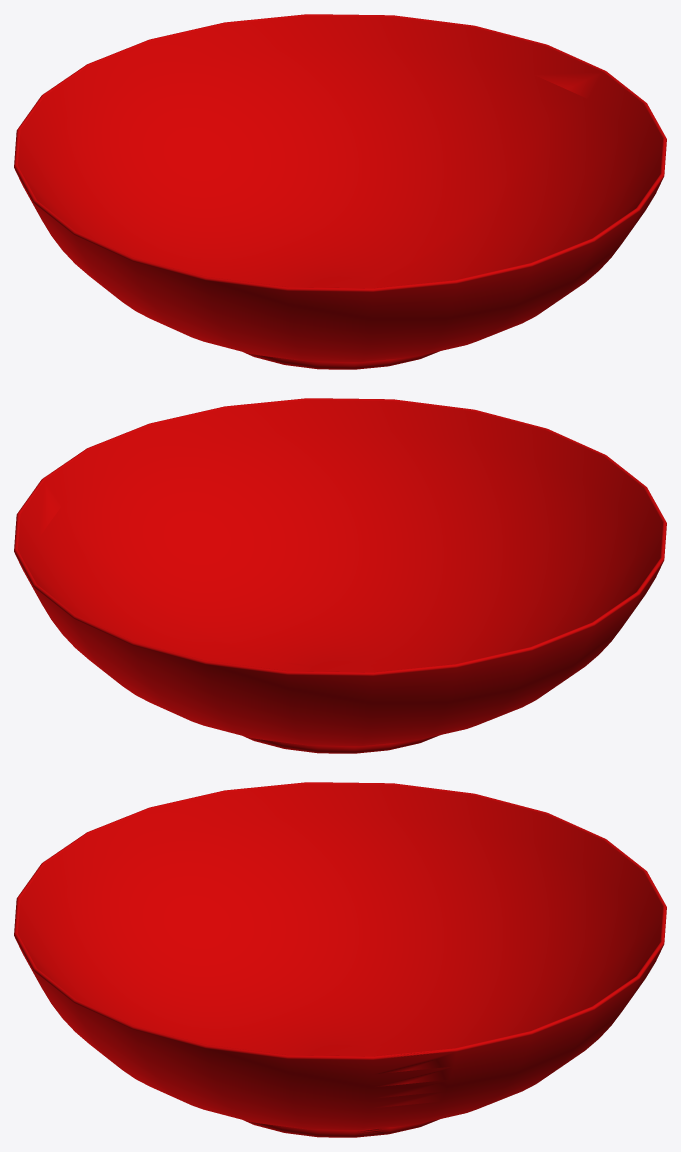
The model's file is bowl.dae.
3 renders of one model, top to bottom at view 1: azimuth 30°, elevation 25°; view 2: azimuth 150°, elevation 25°; view 3: azimuth 270°, elevation 25°, orthographic.
Visible parts, largest first — view 1: instance_0_002, instance_0_001; view 2: instance_0_002, instance_0_001; view 3: instance_0_002, instance_0_001.
Boxes of the visible parts, <box> form: instance_0_002: <box>18,15,662,288</box>; instance_0_001: <box>14,14,666,369</box>; instance_0_002: <box>18,399,662,672</box>; instance_0_001: <box>14,398,666,753</box>; instance_0_002: <box>18,783,662,1056</box>; instance_0_001: <box>14,782,666,1137</box>.
Bounding box in the file's own units: 0.1713 × 0.1713 × 0.0468.
